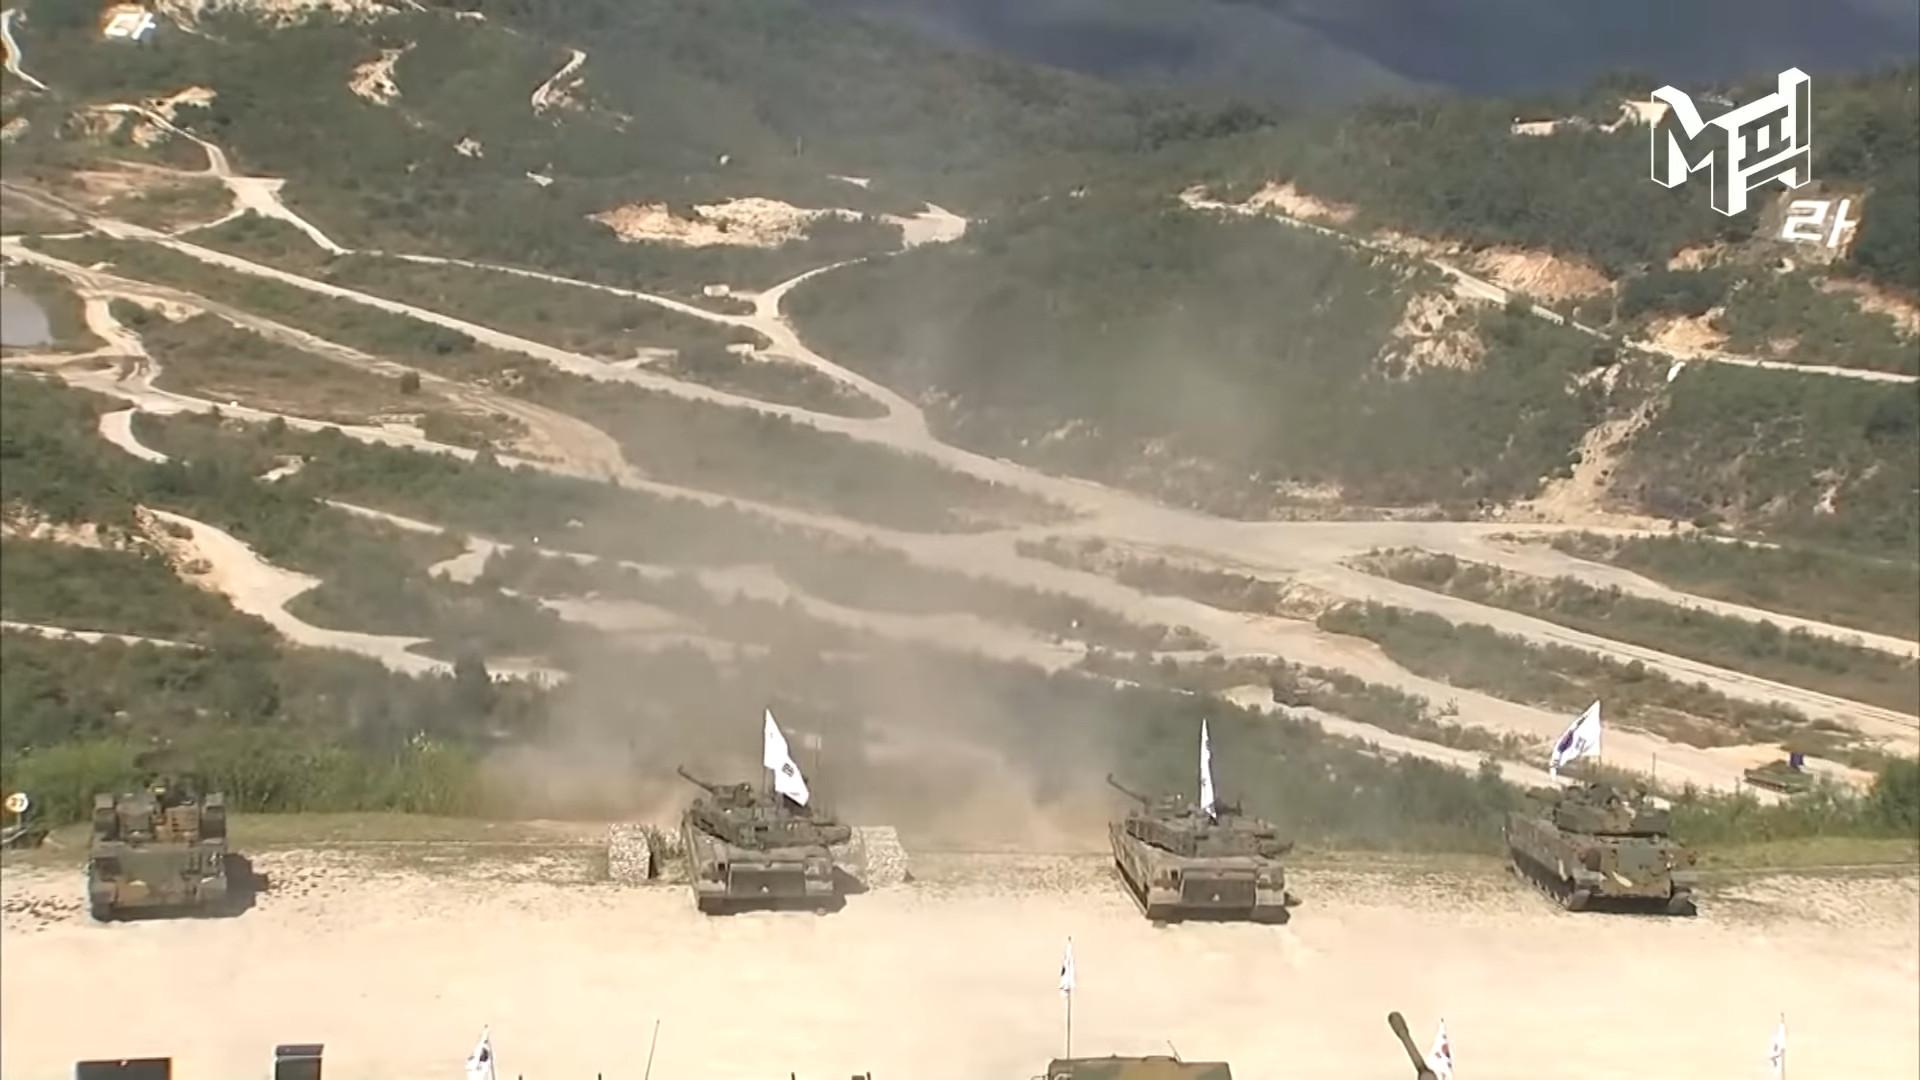tank: (1106, 774, 1288, 920), (1502, 783, 1701, 914), (676, 769, 852, 913), (91, 769, 229, 923)
